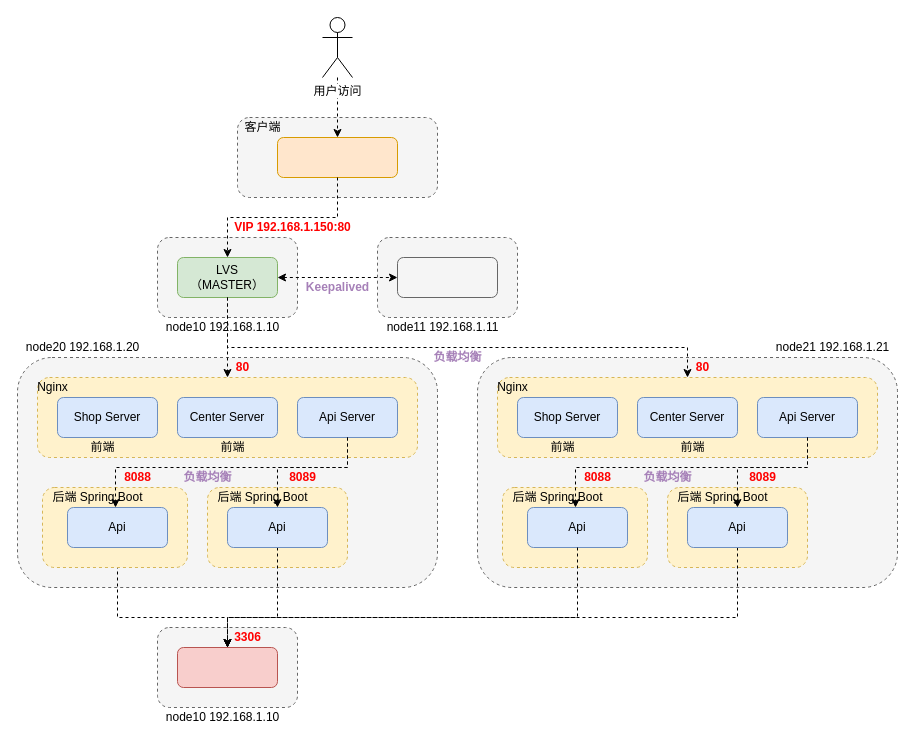
This 915x745 diagram has some shape labels left out. The shapes that lost their labels are listed below. From the top down, each one's centre as x and y in pixels, then its label:
At [337,157]: "浏览器".
At [447,277]: "LVS （BACKUP）".
At [227,667]: "MariaDB".
